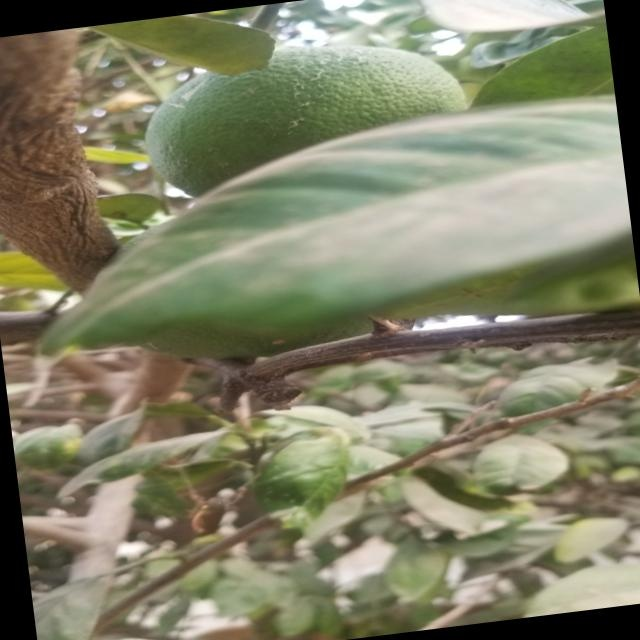agrume: (131, 30, 465, 204)
